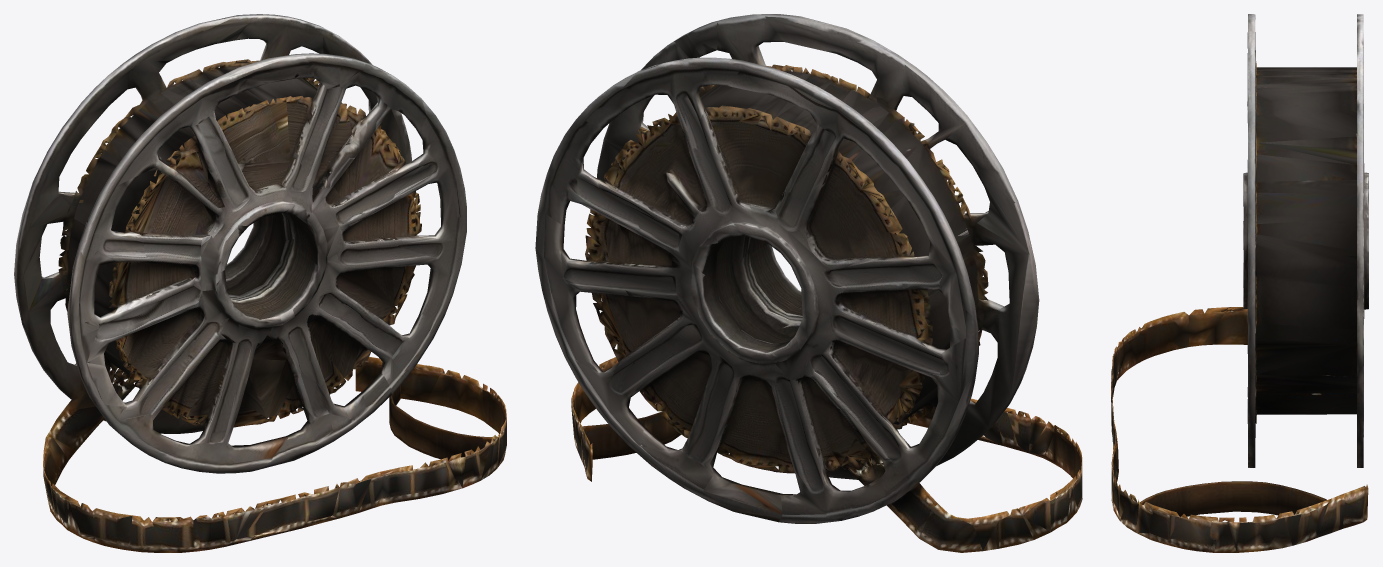
Rendered from int-film-reel.glb.
3 renders of one model, left to right at view 1: azimuth 30°, elevation 25°; view 2: azimuth 150°, elevation 25°; view 3: azimuth 270°, elevation 25°, orthographic. The views are drawn at different scales.
Parts seen in each view (by area): view 1: model; view 2: model; view 3: model.
Part boxes in pixels (x1,y1,x2,y2): model: (14,14,506,552); model: (535,14,1082,552); model: (1111,14,1368,552).
Size of the model in its own units: 0.4 by 0.3649 by 0.2067.
1 material, 1 textured.
